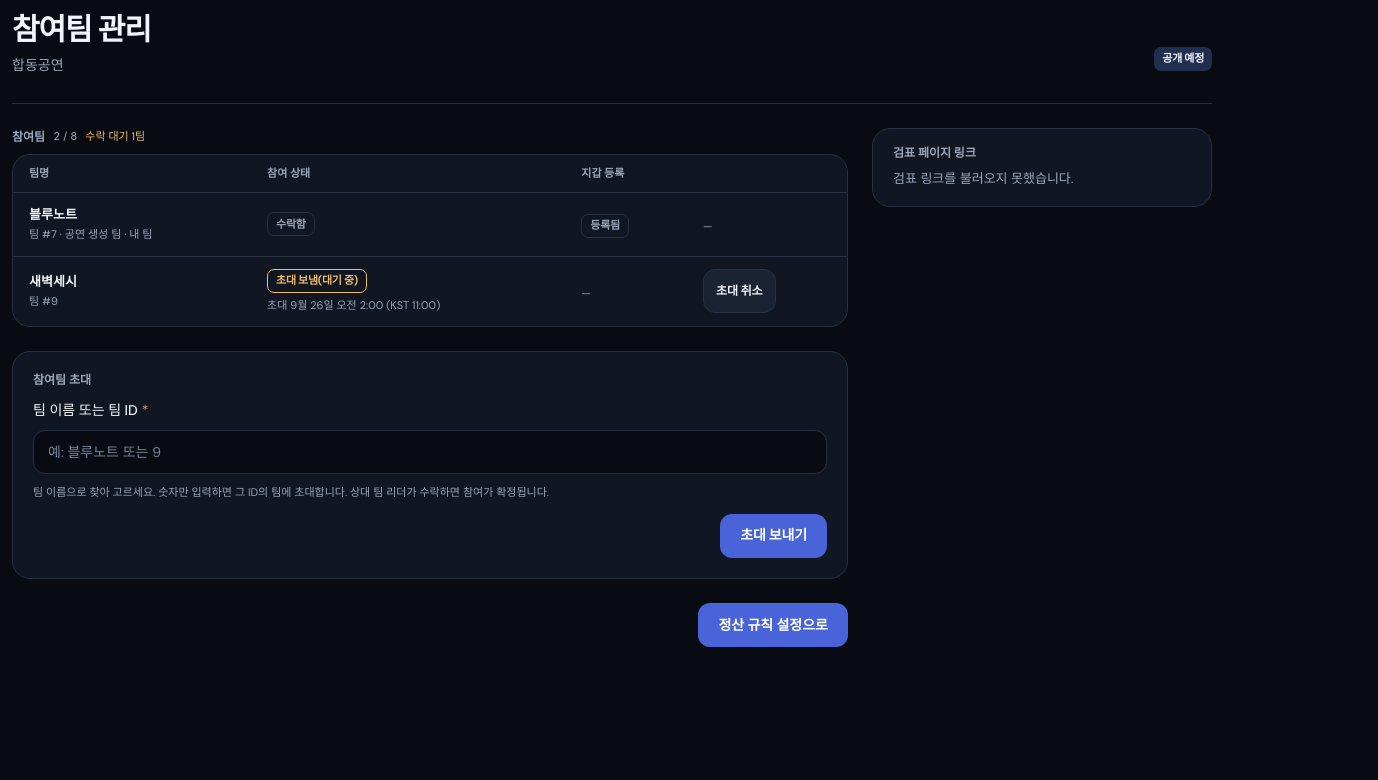
Test: 참여팀 초대 콤보박스 › 300ms 디바운스 뒤 한 번만 검색하고, 후보를 "팀 이름 · #ID"로 보인다
The width and height of the screenshot is (1378, 780).
Type "블" into the dropdown labelled "팀 이름 또는 팀 ID*" at (430, 452), box [33, 430, 827, 474]
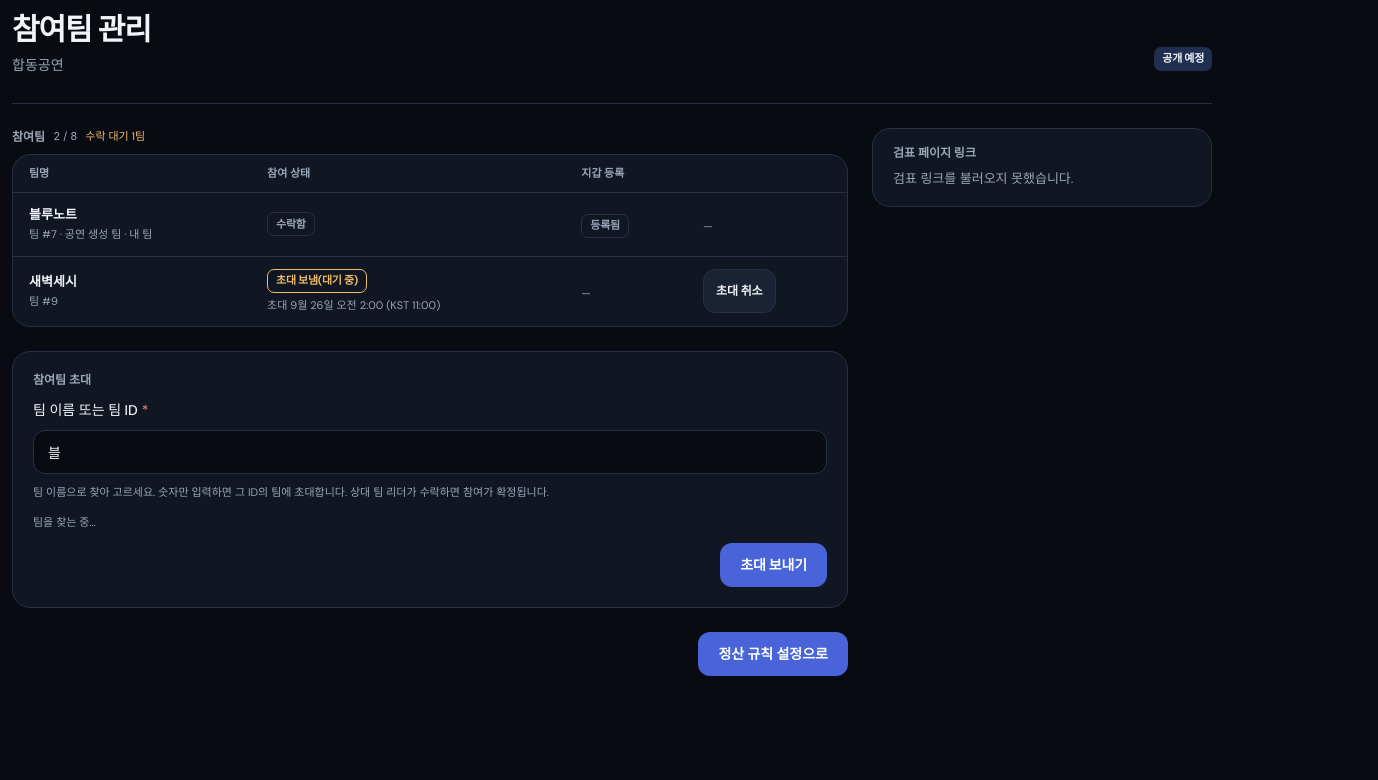
Replace the text in the dropdown labelled "팀 이름 또는 팀 ID*" with "블루" at (430, 452), box [33, 430, 827, 474]
Wait 300 ms
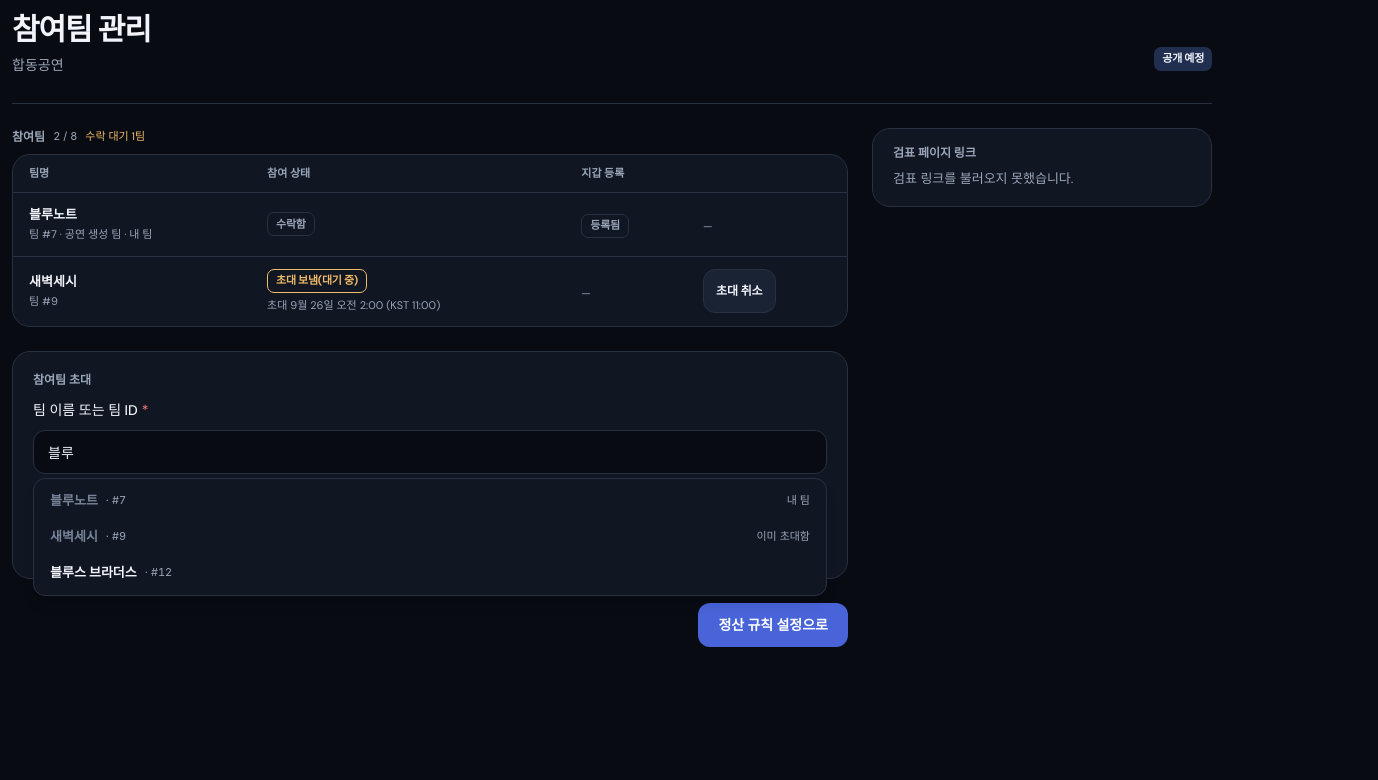
Result: the dropdown labelled "팀 이름 또는 팀 ID*" is expanded at [33, 430, 827, 474]
Result: the number of options is 3 at [50, 492, 810, 509]; [50, 528, 810, 545]; [50, 564, 172, 581]
Result: the text "· #12" is shown at [145, 564, 172, 582]
